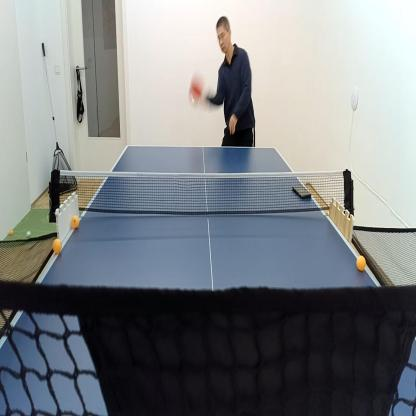Ball: (356, 253, 366, 271), (70, 215, 79, 230), (53, 238, 61, 253), (26, 231, 32, 238), (9, 229, 14, 236), (191, 99, 194, 105)
